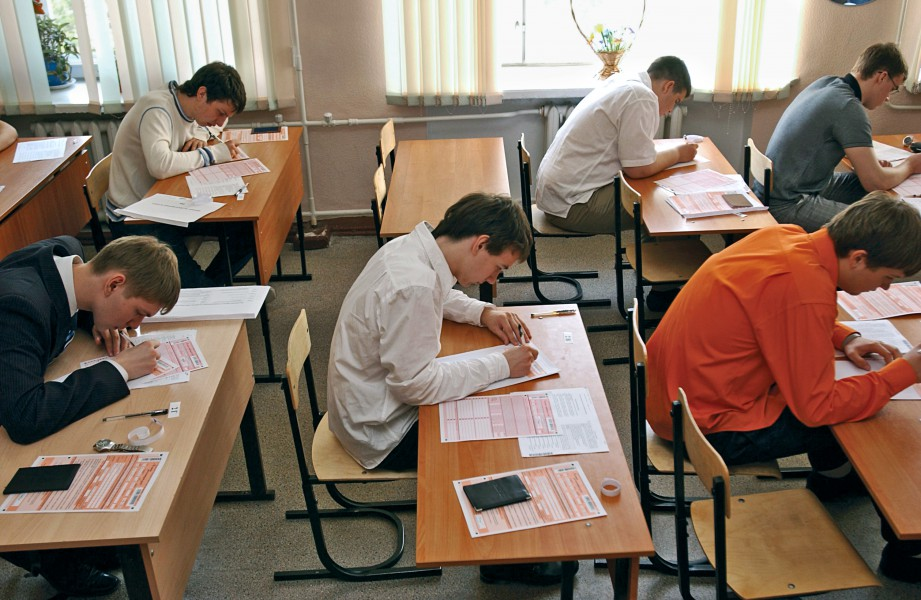students: (641, 193, 921, 455), (326, 190, 540, 476), (1, 234, 182, 445), (751, 40, 921, 237), (107, 61, 258, 282), (535, 56, 700, 235)
